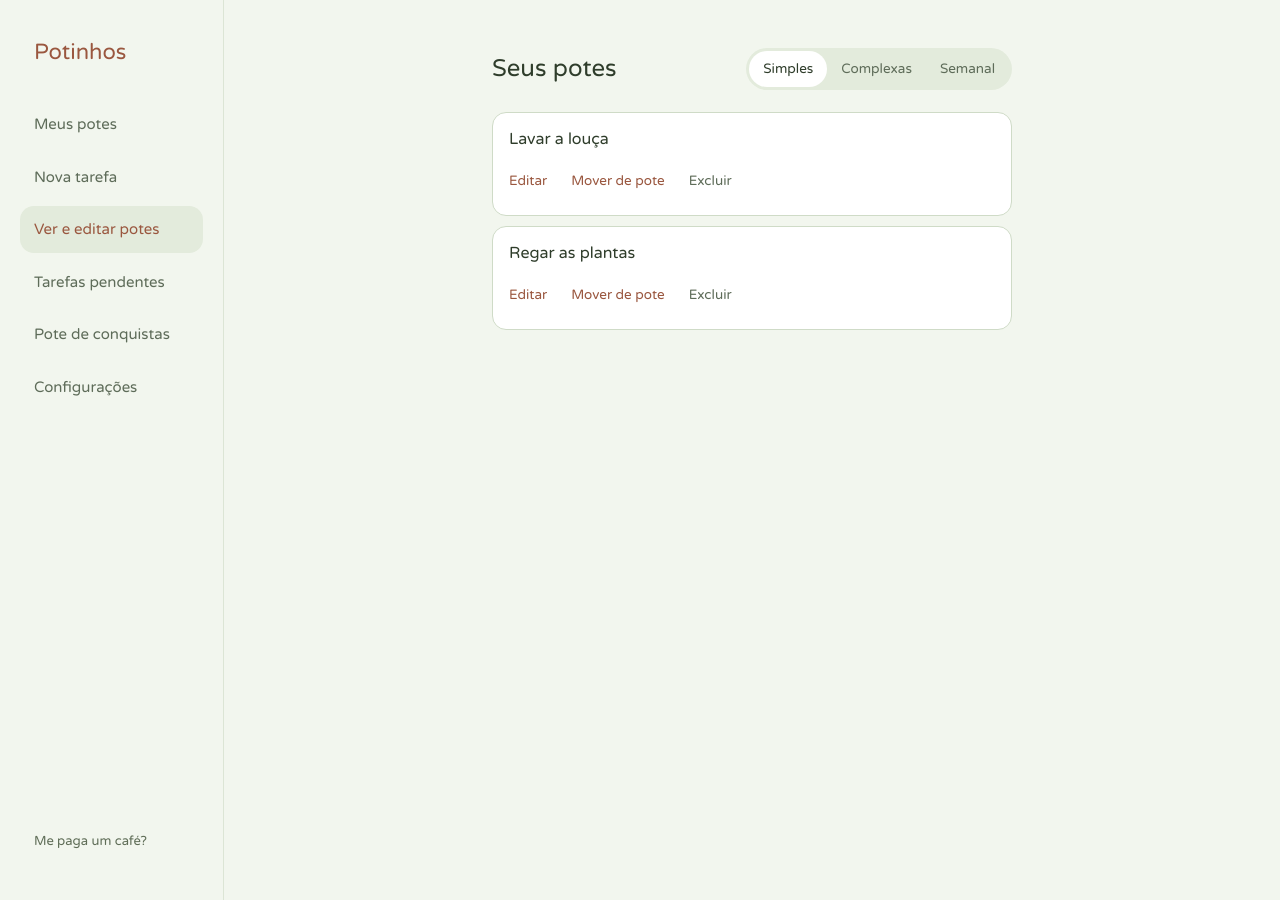
Test case: Edit › Escape gives up editing
The image size is (1280, 900).
Expected: the heading "Seus potes" is shown, [492,51,616,87]
Click the button "Editar" below "Lavar a louça" at (533, 181), box [509,161,557,201]
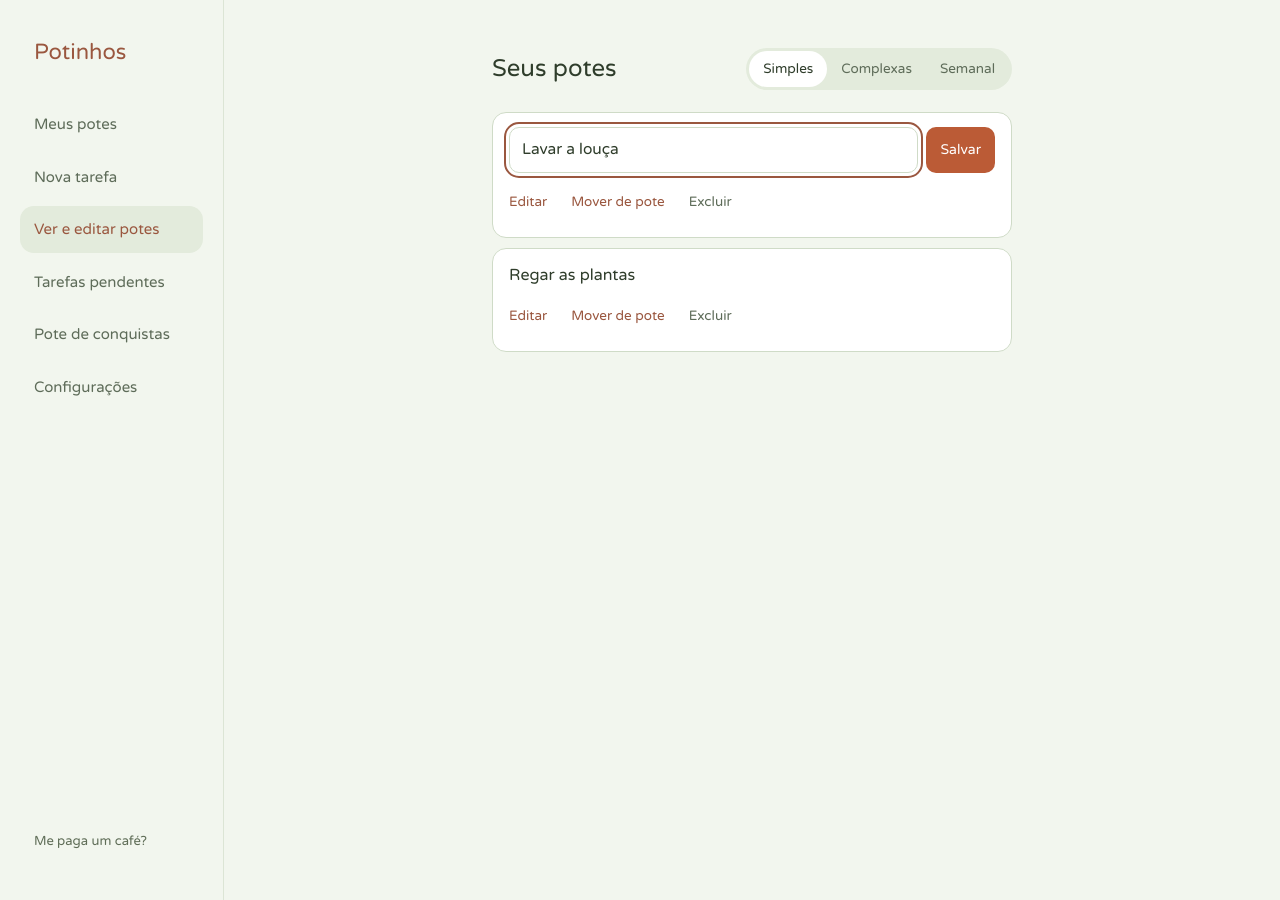
Type " xyz" into the field named "Texto da tarefa" at (714, 150), box [509,127,918,173]
Then press Escape
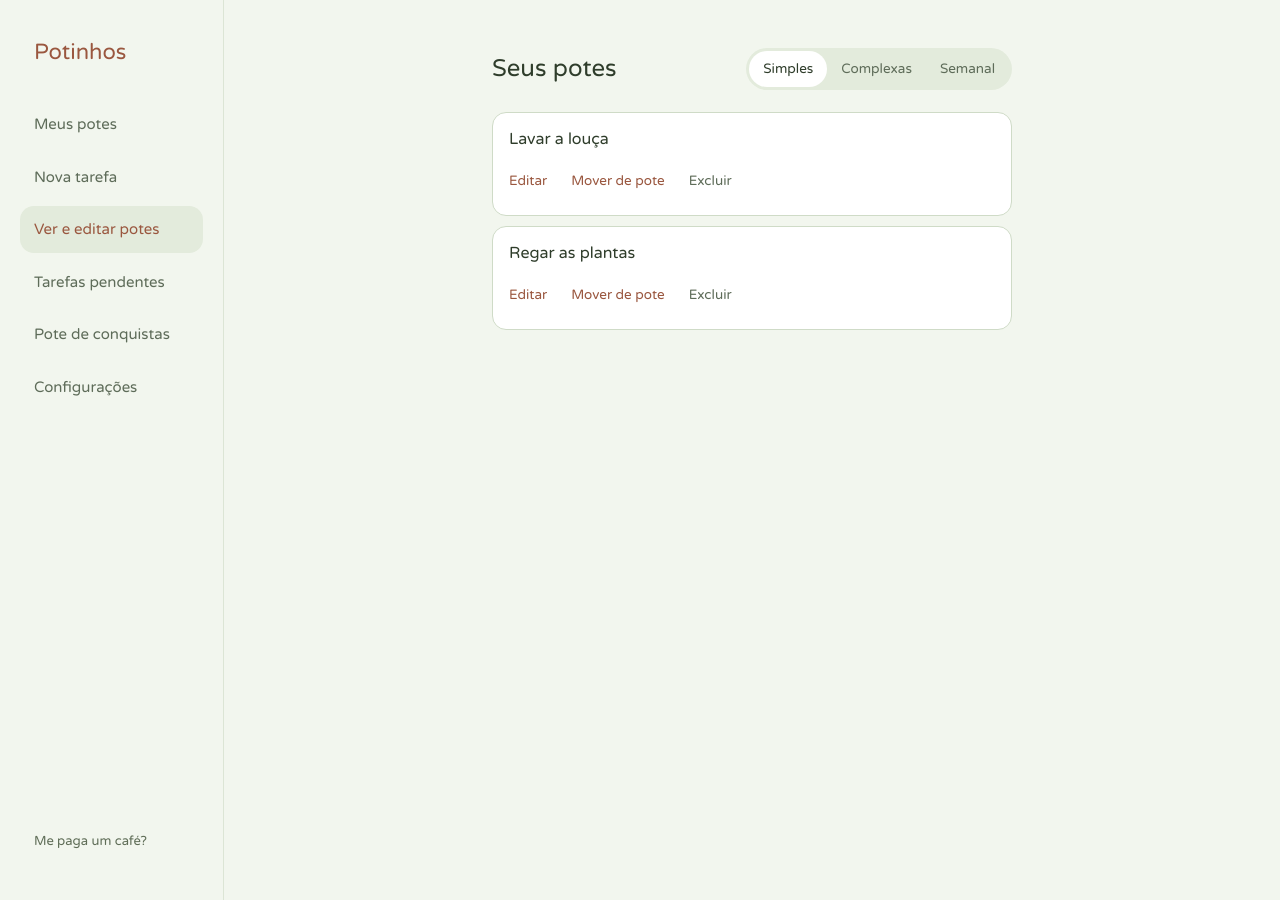
Expected: the text "Lavar a louça" is shown, [509,127,609,151]
